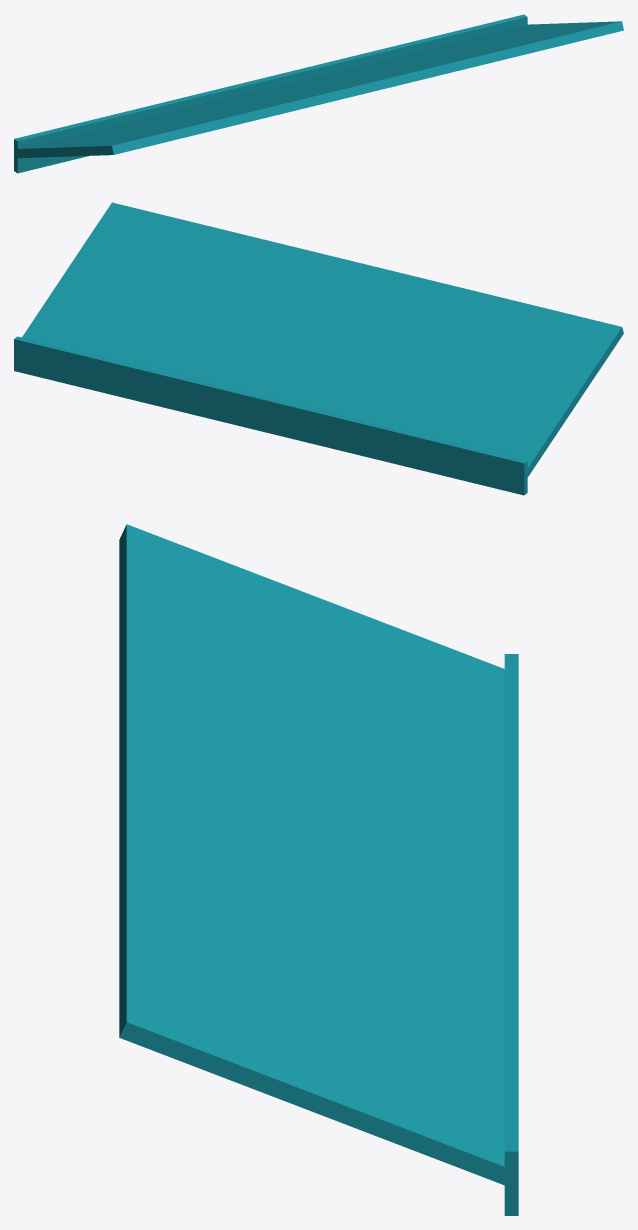
Rendered from env_awning_teal.fbx.
3 views of the same model, one above another, from view 1: azimuth 30°, elevation 25°; view 2: azimuth 150°, elevation 25°; view 3: azimuth 270°, elevation 25° (orthographic). The views are drawn at different scales.
Parts seen in each view (by area): view 1: env_awning_teal_geo; view 2: env_awning_teal_geo; view 3: env_awning_teal_geo.
Boxes of the visible parts, x1=… form: env_awning_teal_geo: x1=14, y1=14, x2=623, y2=173; env_awning_teal_geo: x1=14, y1=202, x2=623, y2=495; env_awning_teal_geo: x1=119, y1=524, x2=518, y2=1215.
Size of the model in its own units: 5 by 0.9073 by 1.69.
